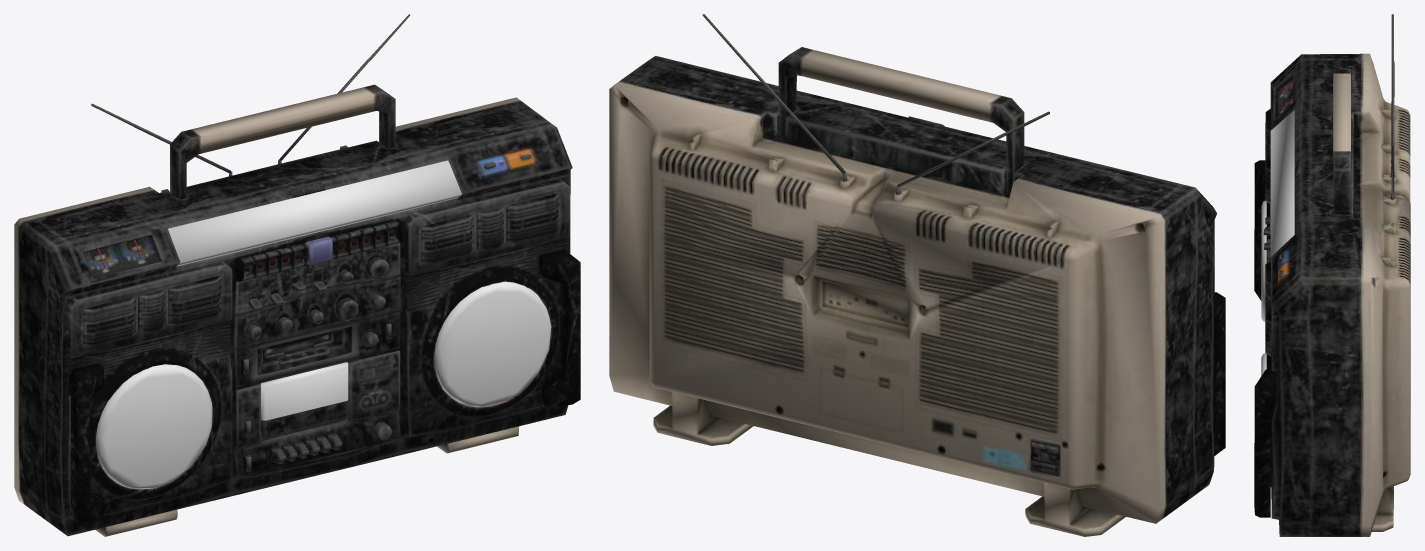
Rendered from boombox.static.glb.
3 renders of one model, left to right at view 1: azimuth 30°, elevation 25°; view 2: azimuth 150°, elevation 25°; view 3: azimuth 270°, elevation 25°, orthographic. The views are drawn at different scales.
Parts seen in each view (by area): view 1: w_portableboombox; view 2: w_portableboombox; view 3: w_portableboombox.
Part boxes in pixels (bbox=[...]): w_portableboombox: bbox=[14, 14, 580, 536]; w_portableboombox: bbox=[609, 14, 1225, 536]; w_portableboombox: bbox=[1254, 14, 1410, 536].
Bounding box in the file's own units: 0.5828 × 0.4332 × 0.1687.
Materials: 1 (1 with a texture image).
